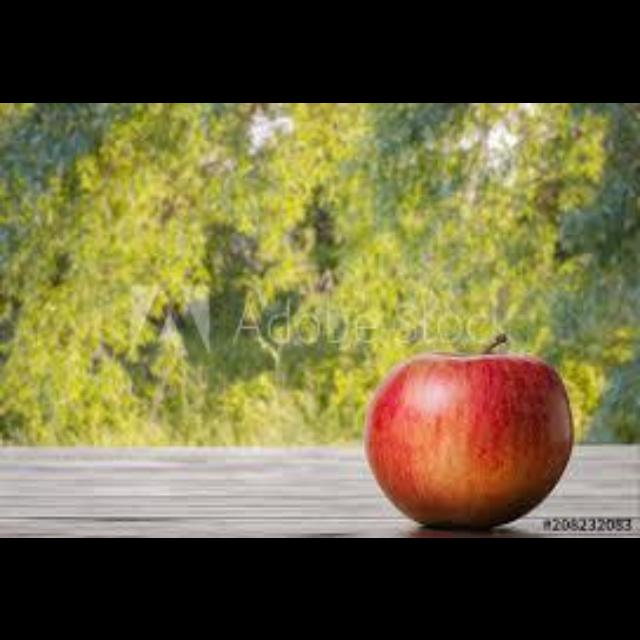apple: (365, 351, 572, 526)
